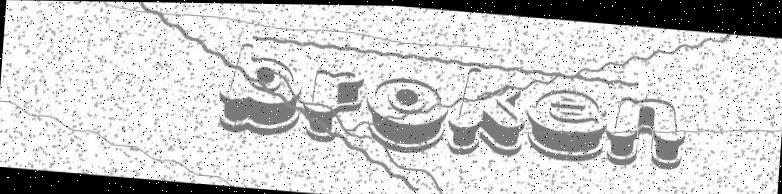b: (217, 41, 305, 138)
e: (525, 85, 610, 162)
k: (446, 64, 530, 158)
n: (605, 95, 689, 168)
o: (363, 73, 450, 154)
r: (300, 66, 363, 144)
